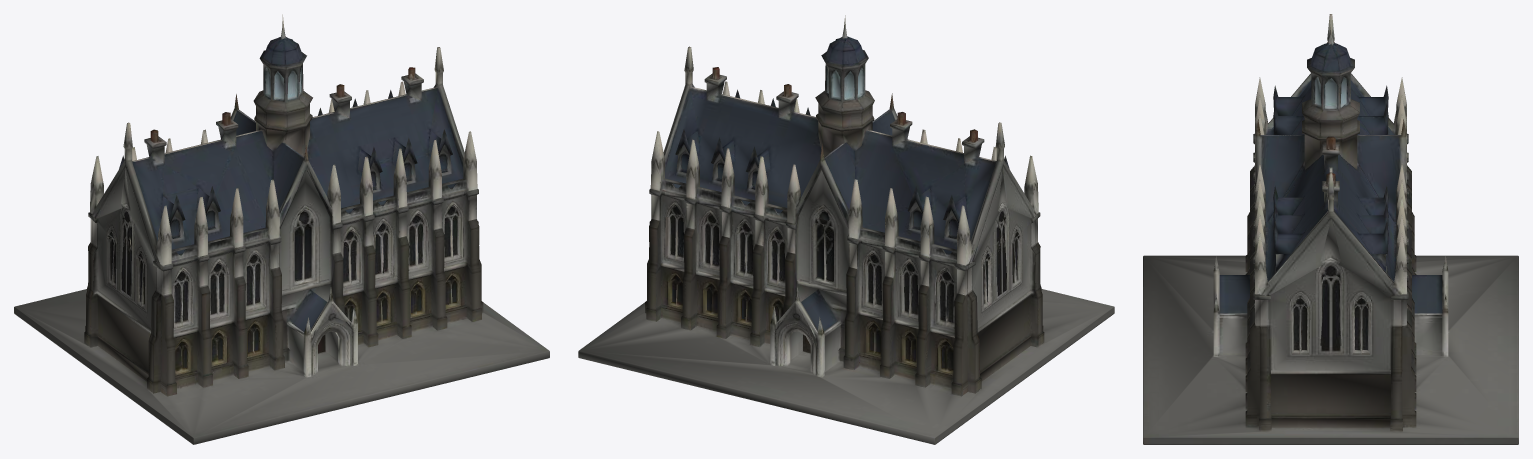
File: academy.glb
3 views of the same model, side by side, from view 1: azimuth 30°, elevation 25°; view 2: azimuth 150°, elevation 25°; view 3: azimuth 270°, elevation 25° (orthographic). The views are drawn at different scales.
Visible parts, largest first — view 1: tripo_node_14bc1180-cdf5-44e8-90d5-e20c3; view 2: tripo_node_14bc1180-cdf5-44e8-90d5-e20c3; view 3: tripo_node_14bc1180-cdf5-44e8-90d5-e20c3.
Part boxes in pixels (box(x1,y1,x2,y2)): tripo_node_14bc1180-cdf5-44e8-90d5-e20c3: box(14, 14, 549, 444); tripo_node_14bc1180-cdf5-44e8-90d5-e20c3: box(578, 15, 1114, 444); tripo_node_14bc1180-cdf5-44e8-90d5-e20c3: box(1143, 14, 1518, 444).
Size of the model in its own units: 37.08 by 32 by 32.44.
1 material, 1 textured.
